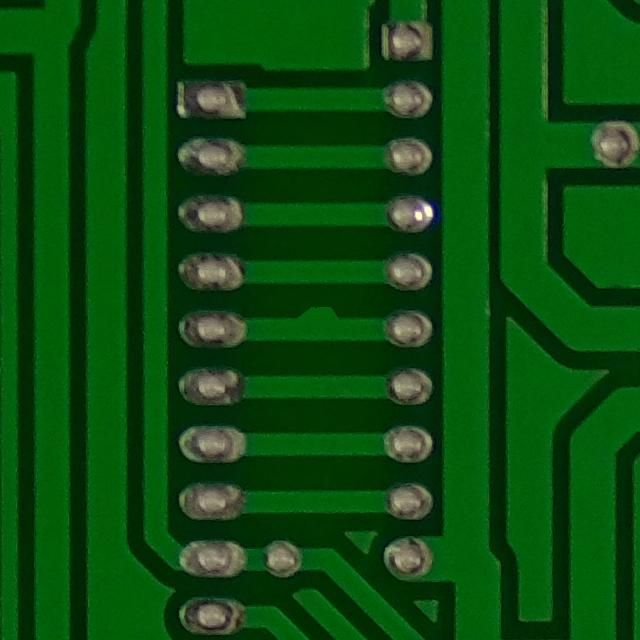spur: (280, 292, 361, 348)
